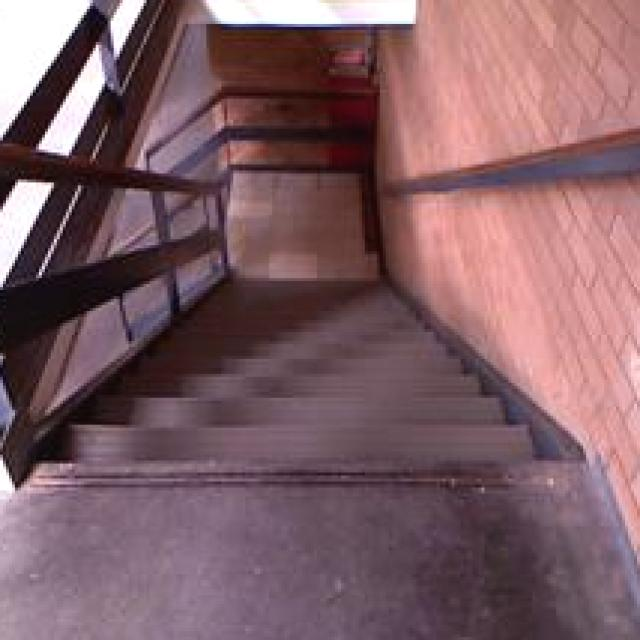downstair: (37, 342, 578, 521)
